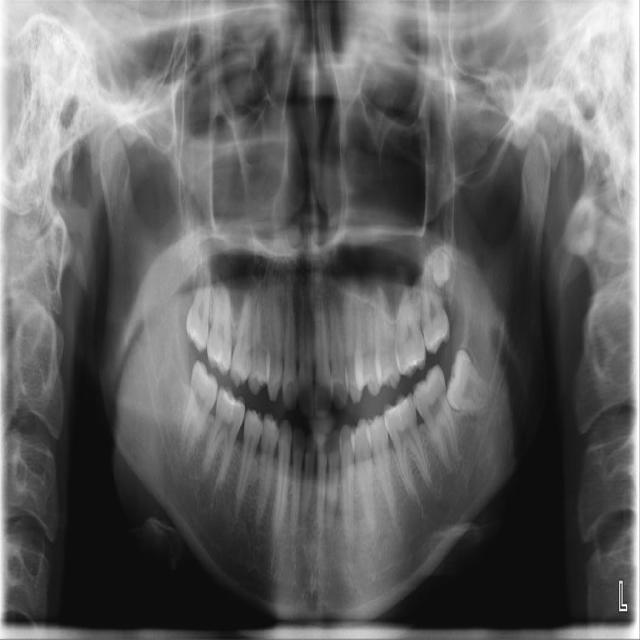Periapical lesion: (196, 477, 215, 512)
impacted tooth: (445, 349, 502, 412), (429, 247, 452, 288)
